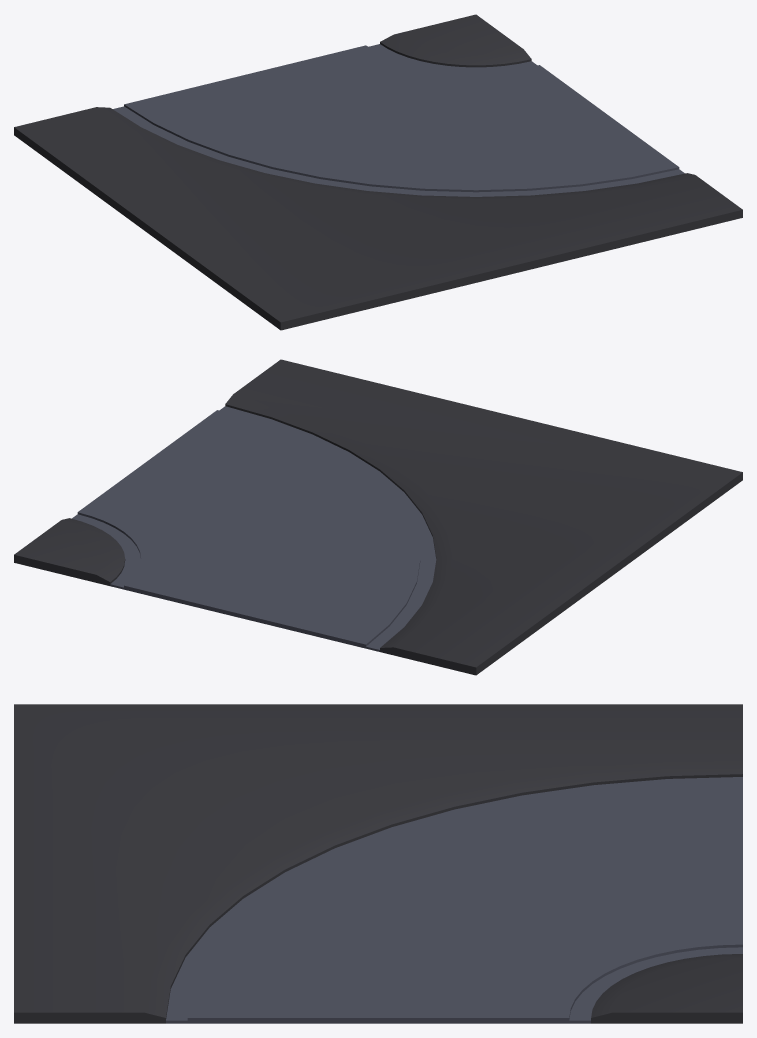
The model's file is road-bend.glb.
The picture shows the model from 3 angles, top to bottom: view 1: azimuth 30°, elevation 25°; view 2: azimuth 150°, elevation 25°; view 3: azimuth 270°, elevation 25°; orthographic projection. The views are drawn at different scales.
Visible parts, largest first — view 1: road-bend; view 2: road-bend; view 3: road-bend.
Boxes of the visible parts, left/top/right/bottom form: road-bend: left=14, top=14, right=742, bottom=330; road-bend: left=14, top=359, right=742, bottom=675; road-bend: left=14, top=704, right=742, bottom=1023.
Bounding box in the file's own units: 3 × 0.05 × 3.
Materials: 1 (1 with a texture image).
